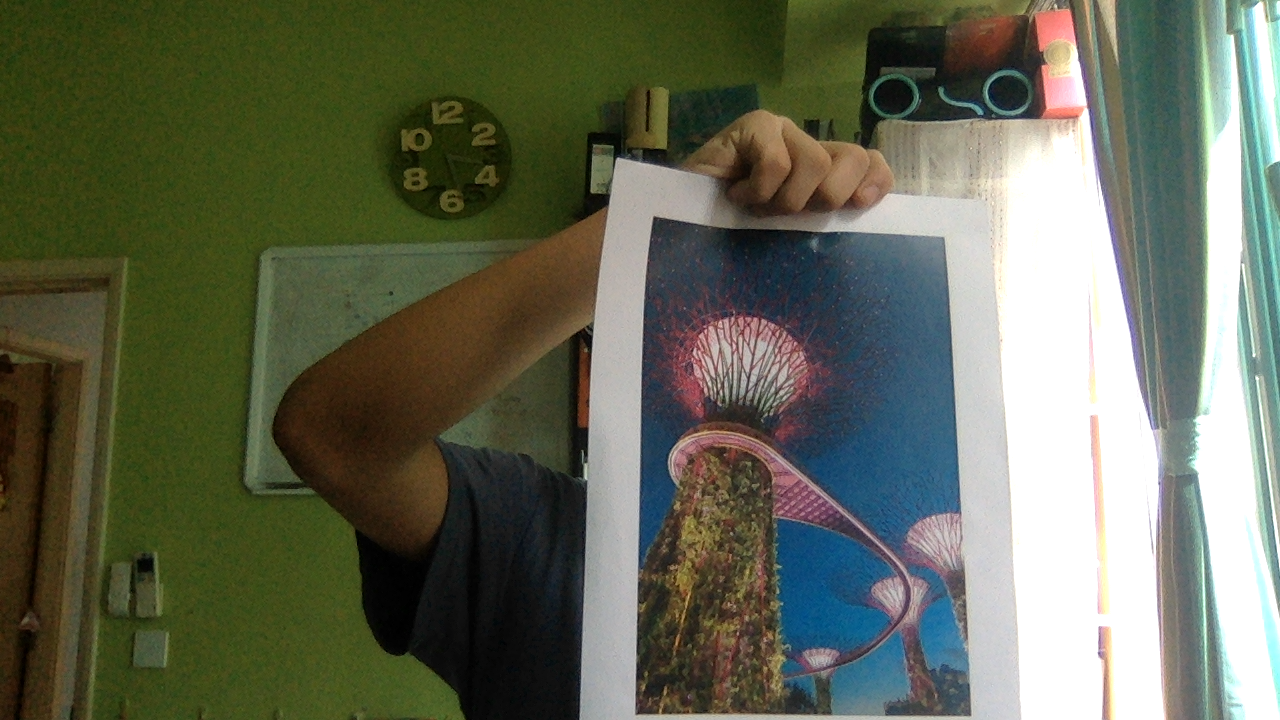GBTB: (628, 215, 974, 720)
